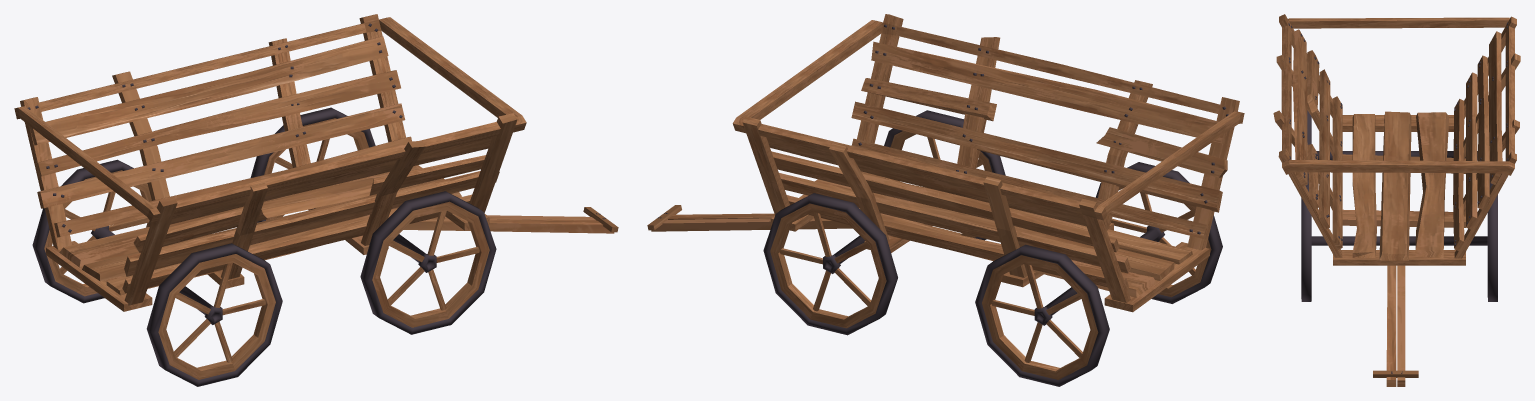
Rendered from Cart_1.fbx.
3 views of the same model, side by side, from view 1: azimuth 30°, elevation 25°; view 2: azimuth 150°, elevation 25°; view 3: azimuth 270°, elevation 25° (orthographic). The views are drawn at different scales.
Visible parts, largest first — view 1: Cart_1; view 2: Cart_1; view 3: Cart_1.
Boxes of the visible parts, left/top/right/bottom form: Cart_1: left=14, top=14, right=618, bottom=386; Cart_1: left=647, top=14, right=1244, bottom=386; Cart_1: left=1273, top=14, right=1520, bottom=386.
Size of the model in its own units: 3.81 by 1.44 by 1.9.
